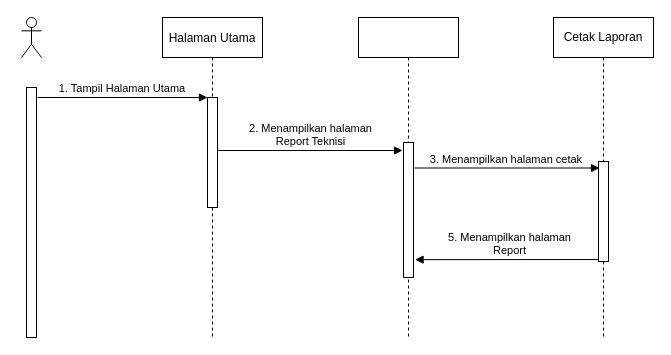
The diagram is 671 pixels wide and 355 high, and some of its shapes have lost their labels. The centre of each missing label's shape, as x and y in pixels:
"Actor" belongs at point (31, 37).
"Halaman Report" belongs at point (408, 177).
